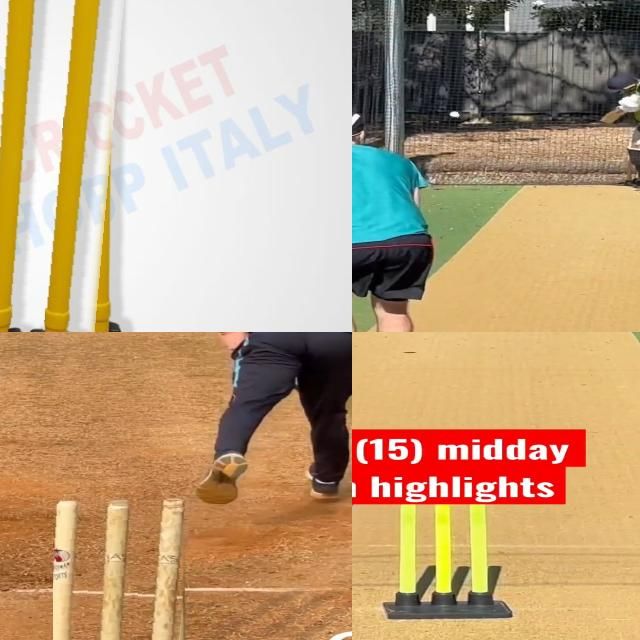Cricket ball: (449, 111, 462, 118)
Stumps: (0, 0, 136, 332), (53, 498, 190, 640), (386, 502, 504, 620)
